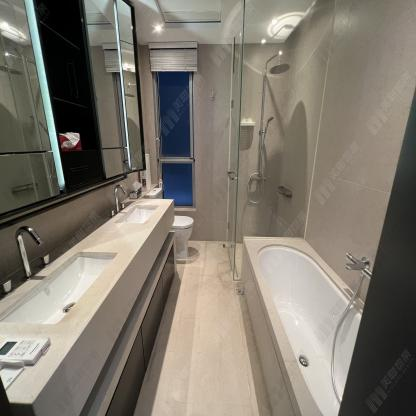Bathtub: (243, 236, 364, 416)
Toilet: (170, 214, 194, 259), (145, 188, 162, 199)
Toilet Sink: (0, 244, 147, 394), (87, 199, 175, 254)
Water Cubicle: (225, 0, 336, 280)
